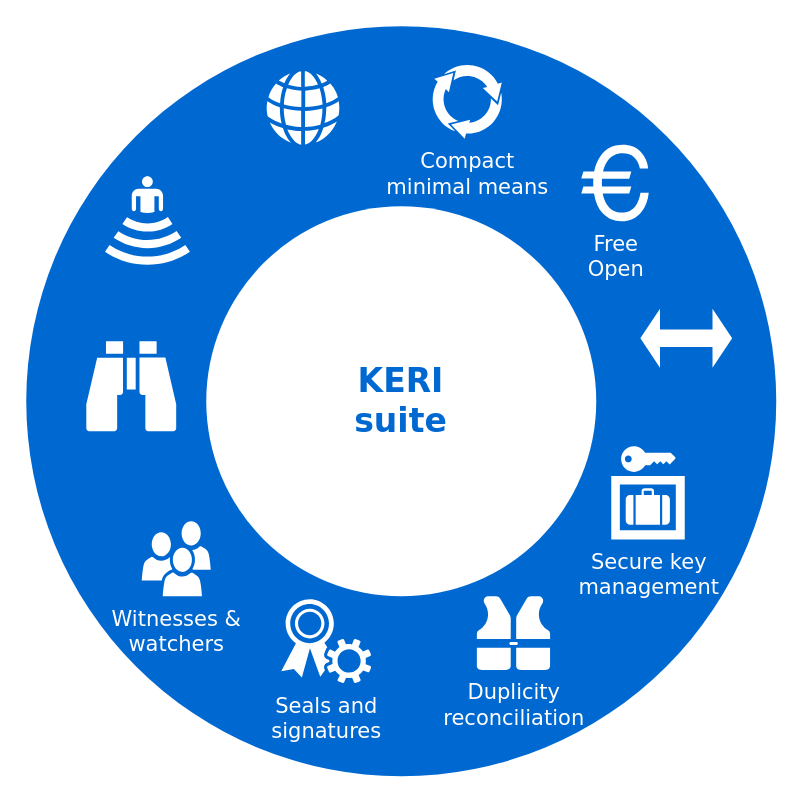
This 801x801 diagram has some shape labels left out. Each missing label, with the centre of its shape:
"Ambient available" goes at [302,107].
"Secure channels" goes at [685,337].
"Self control" goes at [146,220].
"Veracity aid" goes at [131,385].
